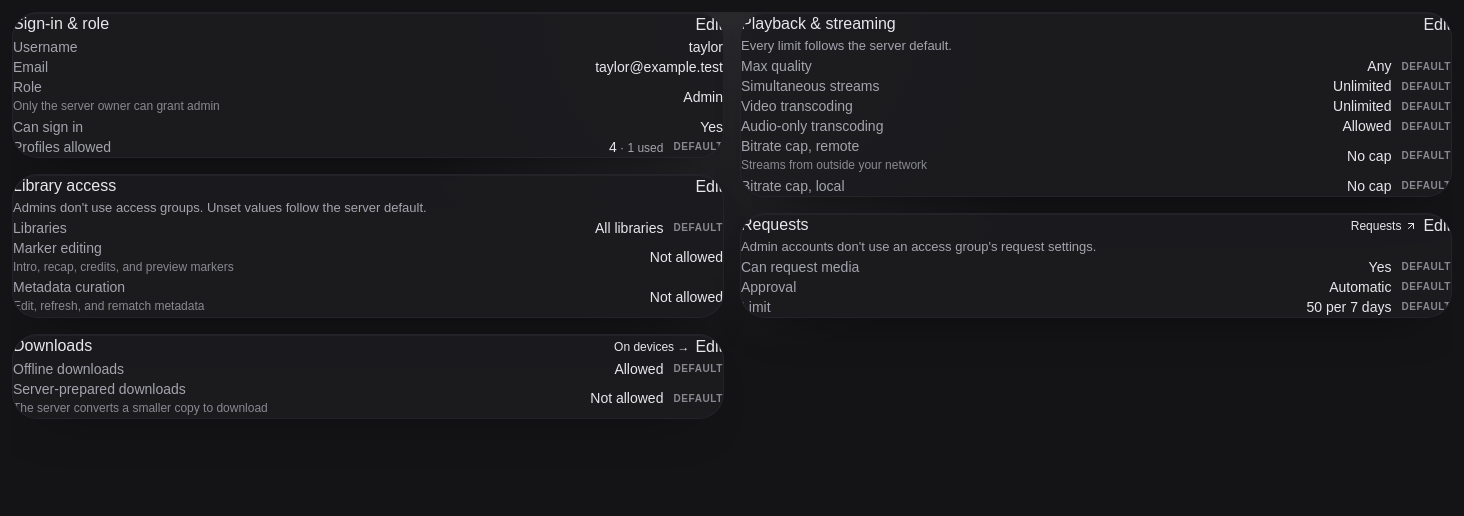
Scenario: Sign-in & role › shows the no-group limit for a demoted admin when no group is the default
The width and height of the screenshot is (1464, 516).
Click the button with aria-label "Edit Sign-in & role".
click(709, 25)  # box [695,13,723,37]
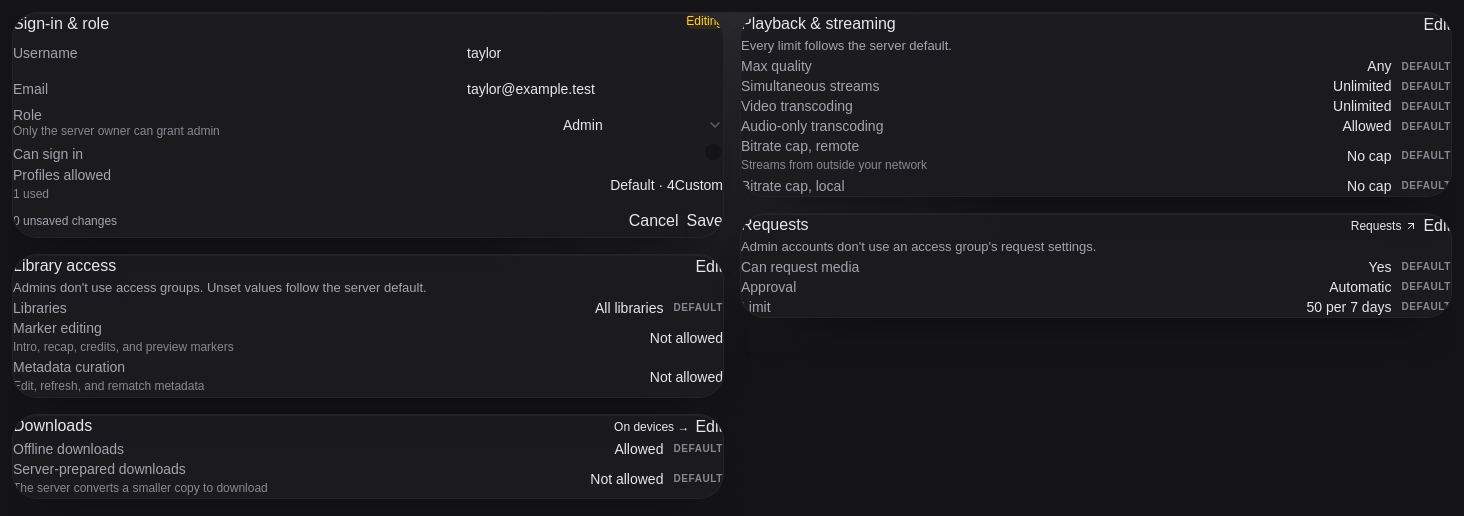
Click the dropdown named "Role".
click(643, 125)  # box [563,107,723,143]
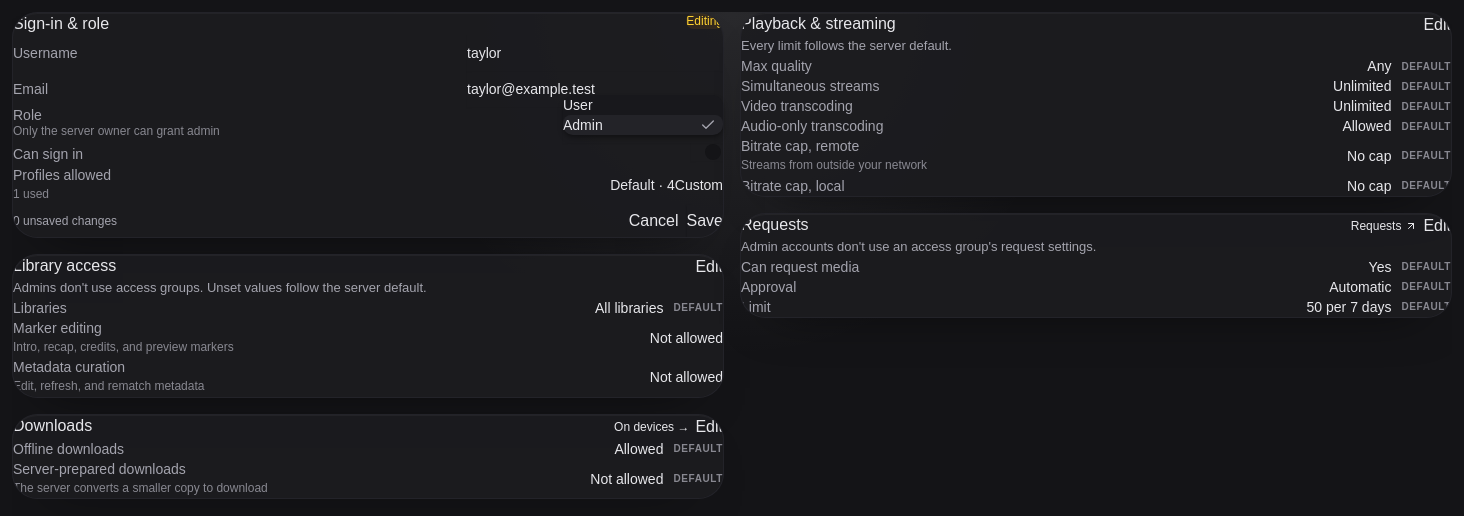
Click the option "User".
click(578, 105)  # box [563,97,593,113]
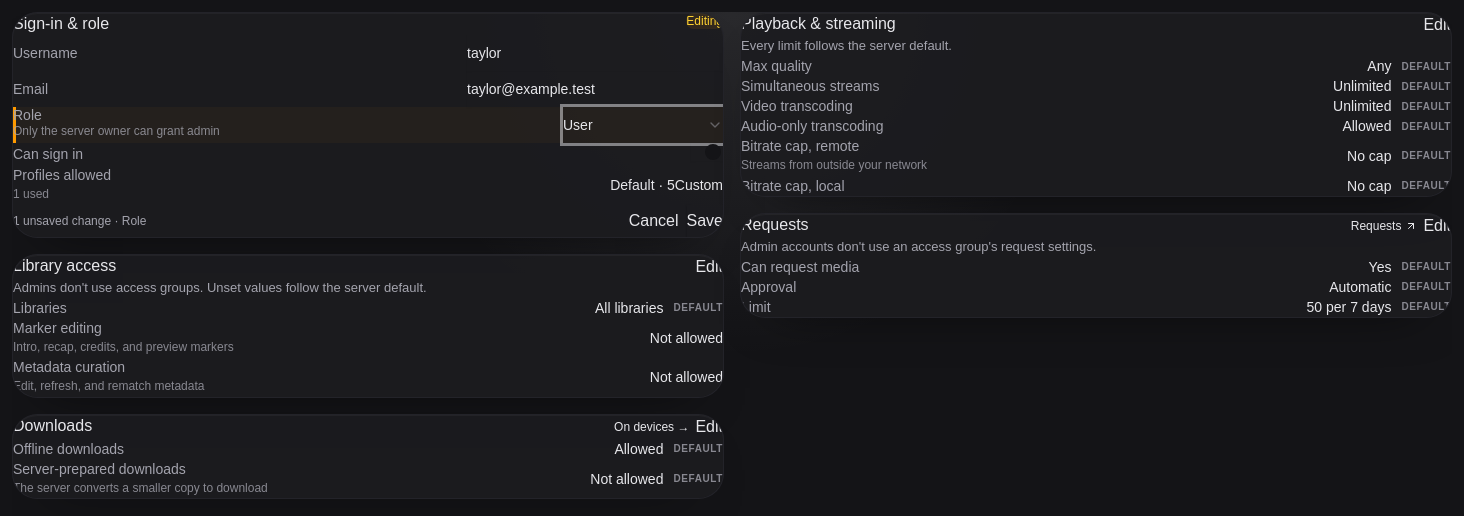
Check: the button "Default · 5" is shown, box [610,175,675,195]
